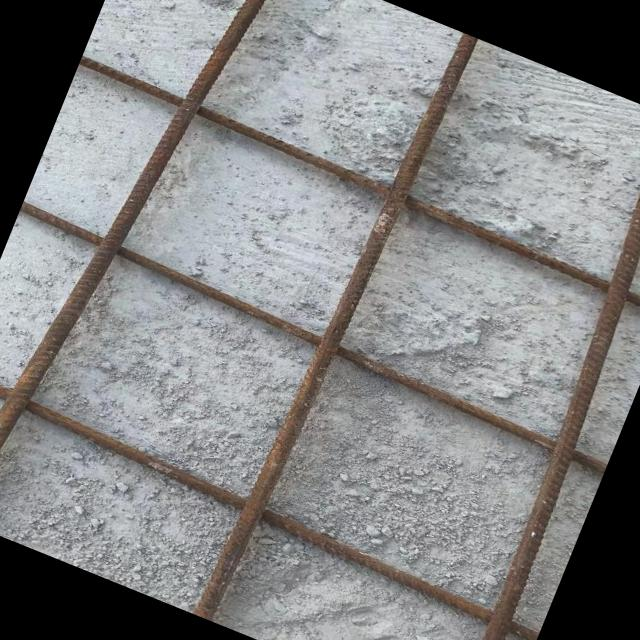ribbed bar: (188, 19, 480, 632), (8, 200, 616, 476), (0, 0, 290, 555), (0, 363, 550, 640), (73, 54, 640, 317), (424, 113, 640, 640)
